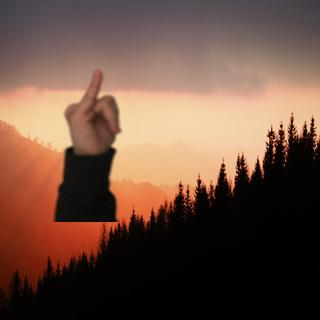HAVE: (57, 66, 125, 156)
